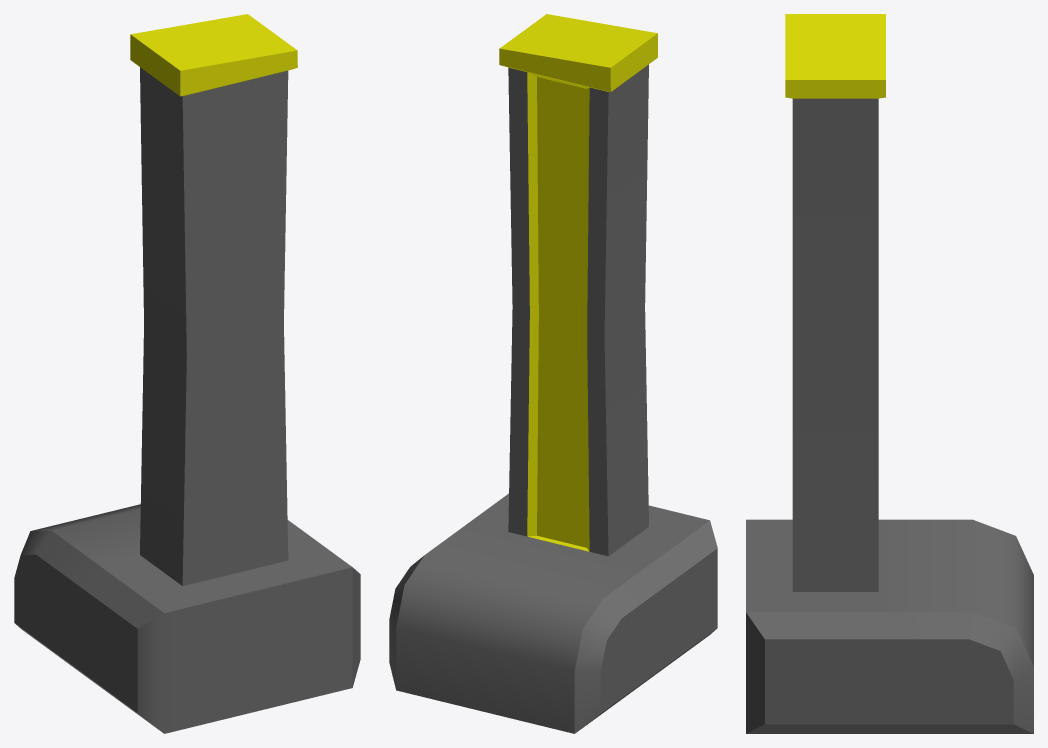
The model's file is Laundress_Body1.fbx.
3 renders of one model, left to right at view 1: azimuth 30°, elevation 25°; view 2: azimuth 150°, elevation 25°; view 3: azimuth 270°, elevation 25°, orthographic. The views are drawn at different scales.
Visible parts, largest first — view 1: Laundress_Body1; view 2: Laundress_Body1; view 3: Laundress_Body1.
Boxes of the visible parts, <box> form: Laundress_Body1: <box>14,14,360,733</box>; Laundress_Body1: <box>389,14,717,733</box>; Laundress_Body1: <box>746,14,1033,733</box>.
Bounding box in the file's own units: 89.39 × 245 × 99.12.
